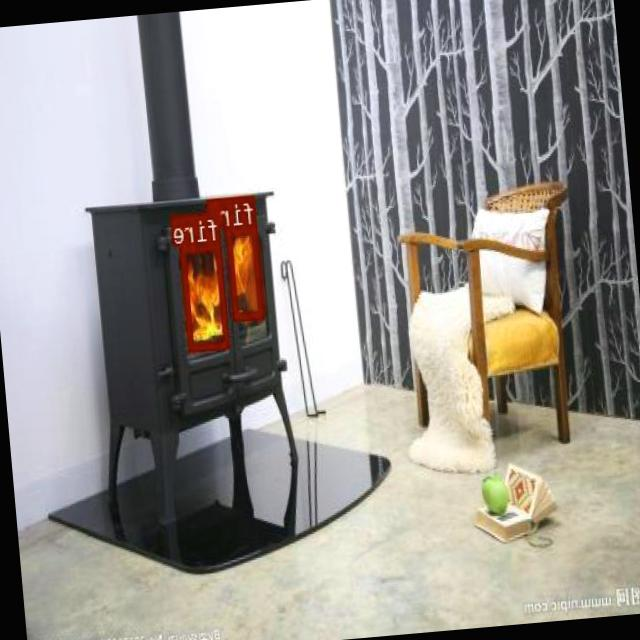fire: (180, 240, 231, 349), (227, 225, 265, 320)
